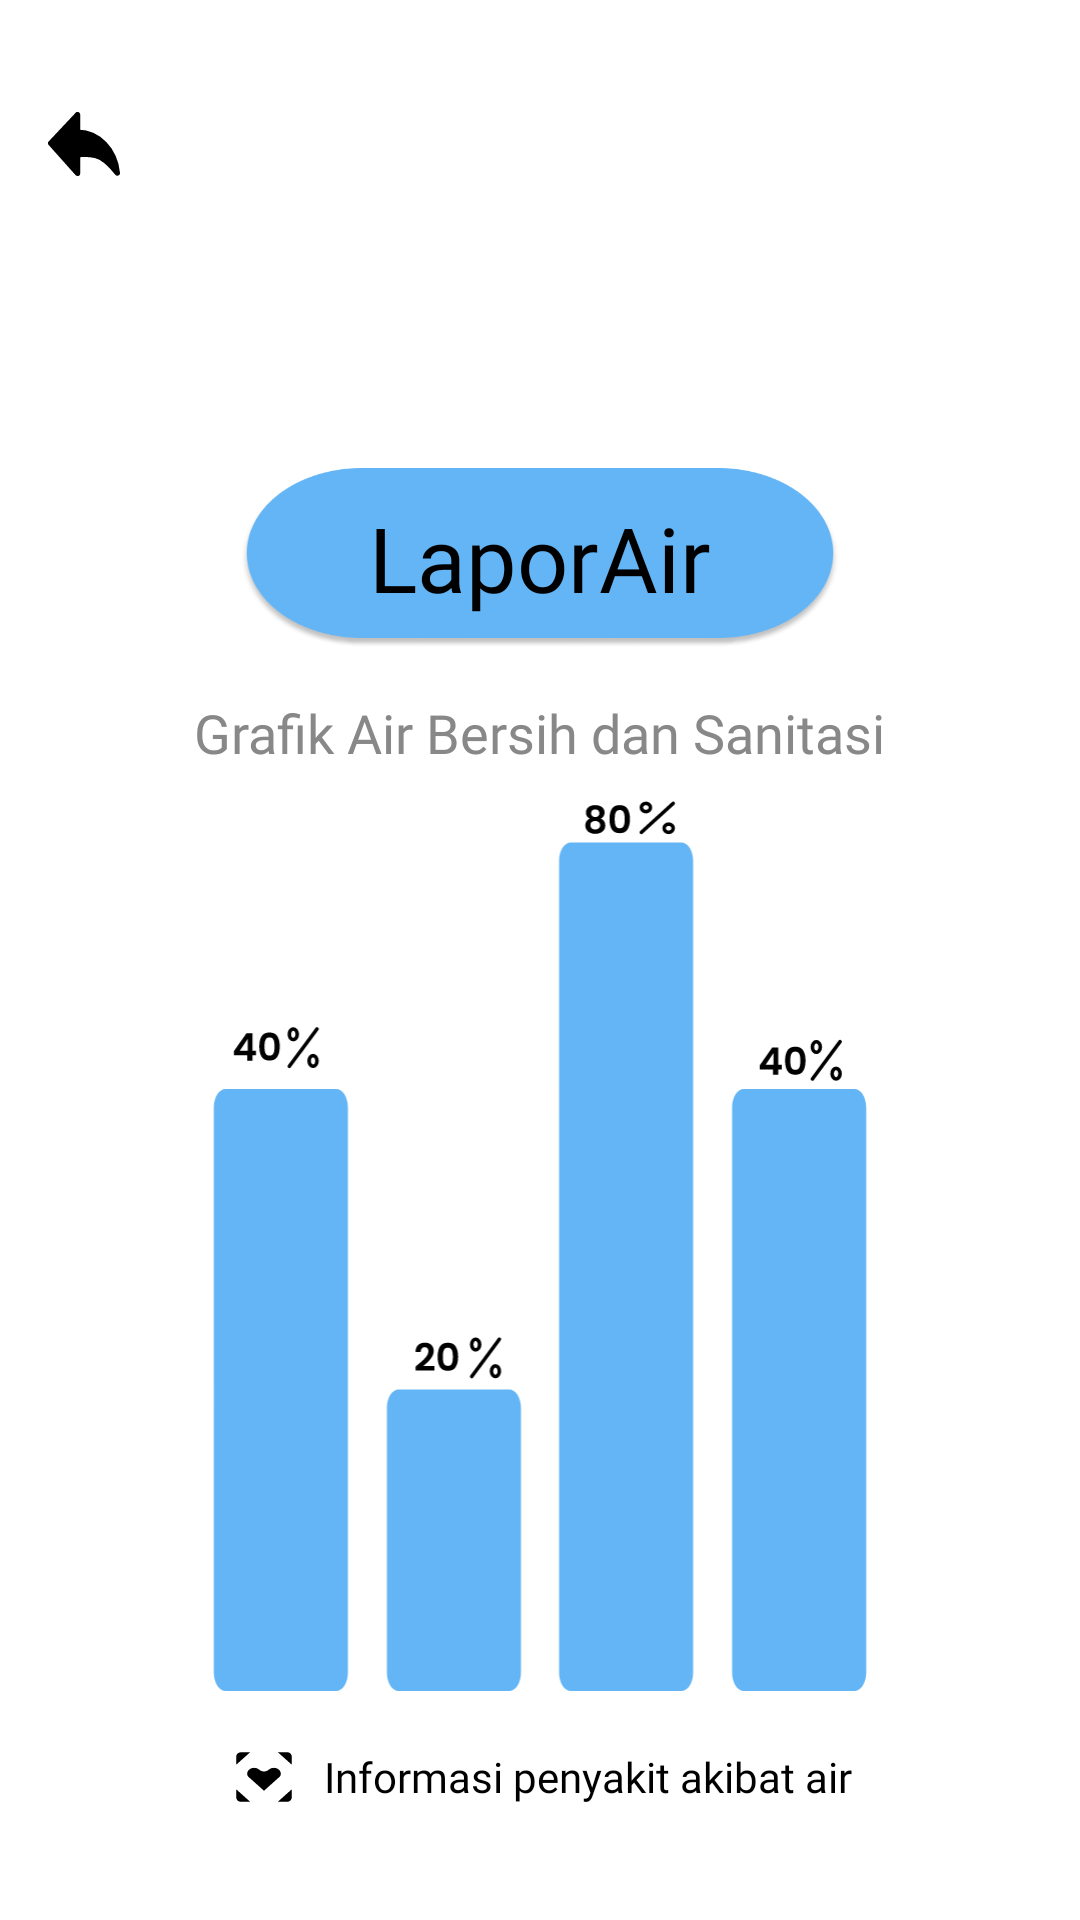

Icons on this 1080w x 1920h Android screen, each with its box as (x1, y1, x2, y2):
Back: (48, 112, 120, 176)
Penyakit ikon: (236, 1752, 292, 1802)
